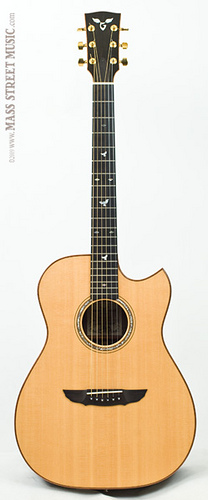guitar: (13, 9, 197, 493)
